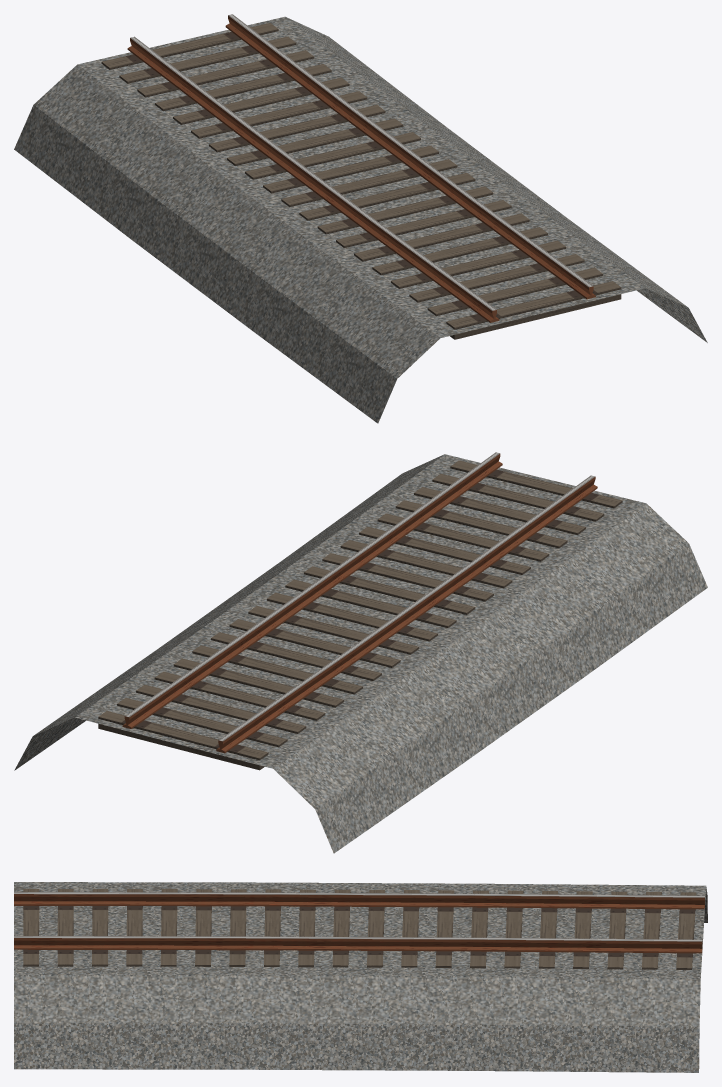
Rendered from rail_track_curve_r400_10m_r_v2.glb.
3 renders of one model, top to bottom at view 1: azimuth 30°, elevation 25°; view 2: azimuth 150°, elevation 25°; view 3: azimuth 270°, elevation 25°, orthographic. The views are drawn at different scales.
Parts seen in each view (by area): view 1: rail_track_curve_r400_10m_r_v2; view 2: rail_track_curve_r400_10m_r_v2; view 3: rail_track_curve_r400_10m_r_v2.
Part boxes in pixels (box(x1,y1,x2,y2)): rail_track_curve_r400_10m_r_v2: box(14, 14, 707, 423); rail_track_curve_r400_10m_r_v2: box(14, 452, 707, 853); rail_track_curve_r400_10m_r_v2: box(14, 882, 707, 1072).
Size of what is drawn, in the model's own units: 5.27 by 1.27 by 10.06.
Materials: 2 (2 with a texture image).
